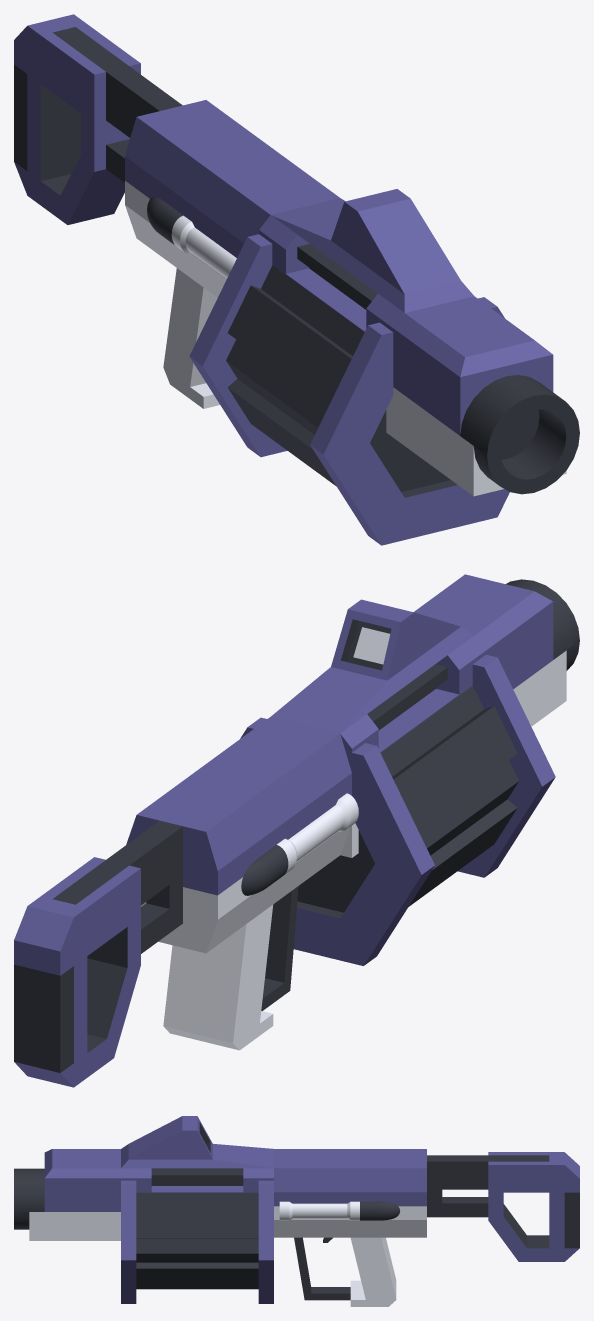
Rendered from GrenadeLauncher.fbx.
The picture shows the model from 3 angles, top to bottom: view 1: azimuth 30°, elevation 25°; view 2: azimuth 150°, elevation 25°; view 3: azimuth 270°, elevation 25°; orthographic projection. The views are drawn at different scales.
Visible parts, largest first — view 1: clipBarrel_large, blaster_barrelLarge, mediumBlaster_handleGuardSmall, stock_tactical, detailCounter, blaster_centerDetail, detail_pipeEndRound; view 2: mediumBlaster_handleGuardSmall, clipBarrel_large, stock_tactical, blaster_barrelLarge, detailCounter, blaster_centerDetail, detail_pipeEndRound; view 3: clipBarrel_large, mediumBlaster_handleGuardSmall, stock_tactical, blaster_barrelLarge, detailCounter, blaster_centerDetail, detail_pipeEndRound.
Part boxes in pixels (x1,y1,x2,y2): clipBarrel_large: (189,234,509,545); blaster_barrelLarge: (393,296,579,496); mediumBlaster_handleGuardSmall: (125,100,339,408); stock_tactical: (14,14,182,224); detailCounter: (271,189,473,312); blaster_centerDetail: (259,215,404,437); detail_pipeEndRound: (147,197,236,278); mediumBlaster_handleGuardSmall: (126,717,351,1050); clipBarrel_large: (240,654,555,965); stock_tactical: (14,820,182,1087); blaster_barrelLarge: (413,574,579,726); detailCounter: (271,599,473,733); blaster_centerDetail: (340,635,485,857); detail_pipeEndRound: (241,793,358,895); clipBarrel_large: (121,1180,273,1303); mediumBlaster_handleGuardSmall: (274,1149,426,1306); stock_tactical: (427,1152,579,1261); blaster_barrelLarge: (14,1149,120,1240); detailCounter: (121,1116,273,1168); blaster_centerDetail: (121,1168,273,1192); detail_pipeEndRound: (279,1201,399,1220).
Size of the model in its own units: 10 by 12.5 by 37.
